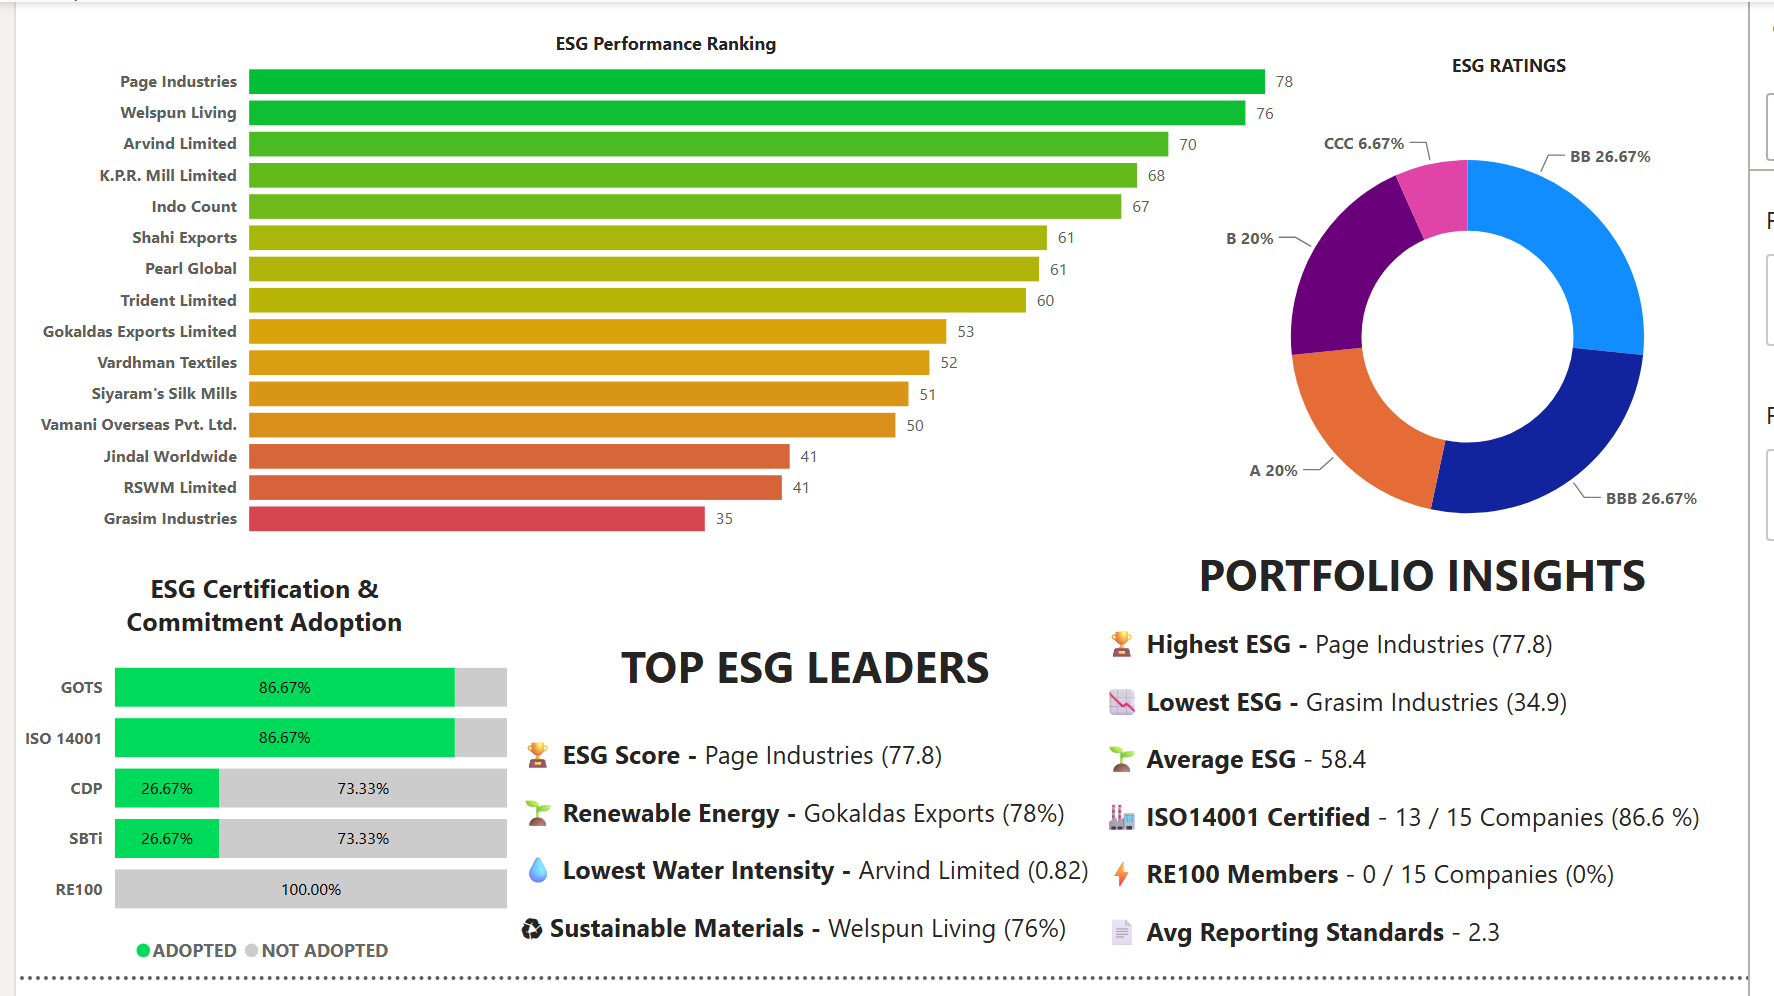

What the dashboard file says about the page in this screenshot:
{"tool":"powerbi","page":{"name":"Page 2","canvas":[1280,720],"ordinal":1},"visuals":[{"type":"clusteredBarChart","fields":{"Category":["LS_Main_Dataset.Company Name"],"Y":["Sum(LS_Main_Dataset.Overall ESGScore)"]},"box":[16,32,928,368],"z":0},{"type":"donutChart","fields":{"Category":["LS_Main_Dataset.ESG Rating"],"Y":["LS_Main_Dataset.Company Count"]},"box":[864,48,416,400],"z":1000},{"type":"textbox","box":[799.3,443.9,464,272],"z":2000},{"type":"textbox","box":[367.3,523.9,432,192],"z":3000},{"type":"textbox","box":[384,16,192,32],"z":4000},{"type":"hundredPercentStackedBarChart","fields":{"Category":["Table (2).CERTIFICATION COVERAGE "],"Y":["Sum(Table (2).YES)","Sum(Table (2).NO)"]},"box":[0,464,368,256],"z":5000},{"type":"textbox","box":[416,464,336,64],"z":6000},{"type":"textbox","box":[863.3,395.9,352,64],"z":7000},{"type":"textbox","box":[64,416,240,80],"z":8000},{"type":"textbox","box":[1056,32,96,32],"z":9000}]}

Visuals, with their boxes in screenshot pixels (x1, y1, x2, y2), scaled from the page's 1280x720 canvas onto the 1774x996 screenshot:
clusteredBarChart - LS_Main_Dataset.Company Name x Sum(LS_Main_Dataset.Overall ESGScore): rect(22, 44, 1308, 553)
donutChart - LS_Main_Dataset.ESG Rating x LS_Main_Dataset.Company Count: rect(1197, 66, 1773, 620)
textbox: rect(1108, 614, 1751, 990)
textbox: rect(509, 725, 1108, 990)
textbox: rect(532, 22, 798, 66)
hundredPercentStackedBarChart - Table (2).CERTIFICATION COVERAGE  x Sum(Table (2).YES): rect(0, 642, 510, 995)
textbox: rect(577, 642, 1042, 730)
textbox: rect(1196, 548, 1684, 636)
textbox: rect(89, 575, 421, 686)
textbox: rect(1464, 44, 1597, 89)
